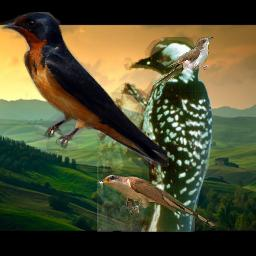Cuckoo: (96, 174, 217, 228), (152, 36, 213, 85)
Swallow: (0, 12, 169, 167)
Woodpecker: (97, 37, 212, 232)
